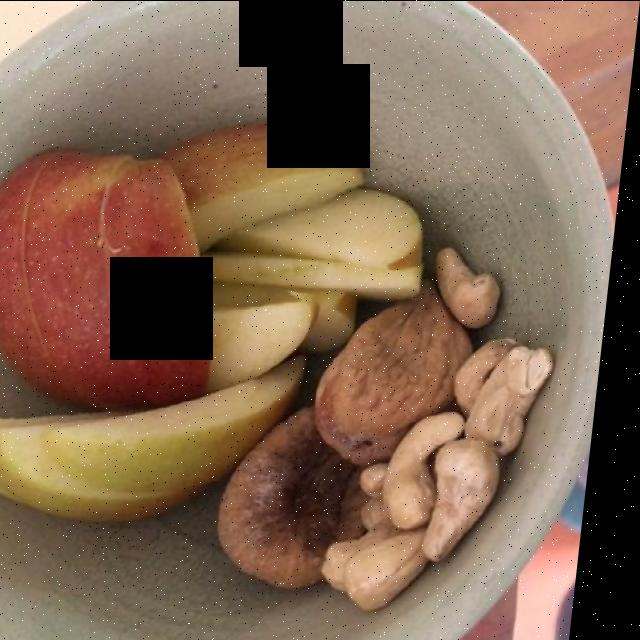apple: (0, 108, 445, 494)
cashew-nut: (334, 225, 570, 590)
fig-dried: (231, 271, 462, 570)
